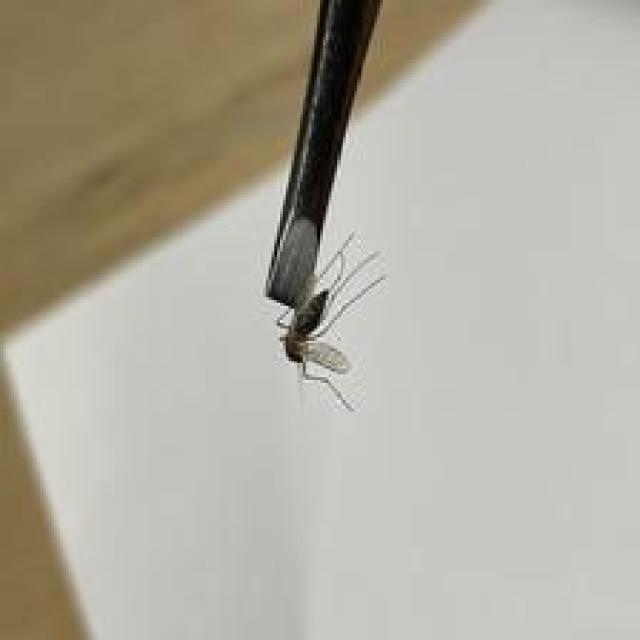Culex: (264, 228, 387, 412)
